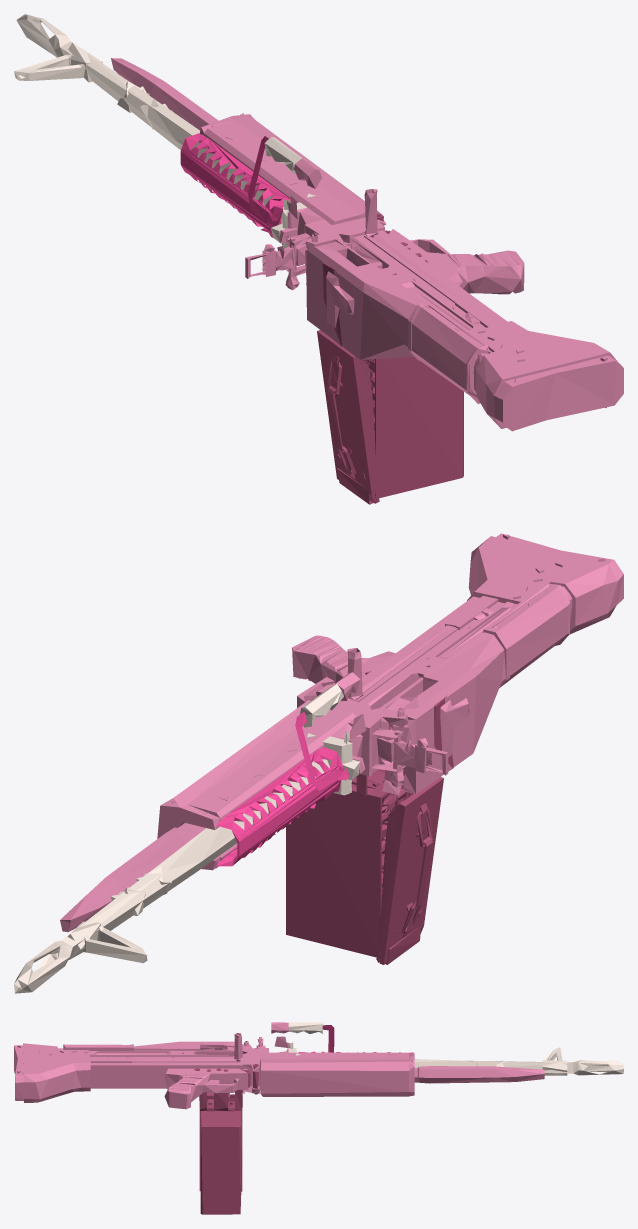
The model's file is LMG_M60.obj.
The picture shows the model from 3 angles, top to bottom: view 1: azimuth 30°, elevation 25°; view 2: azimuth 150°, elevation 25°; view 3: azimuth 270°, elevation 25°; orthographic projection. The views are drawn at different scales.
Parts seen in each view (by area): view 1: Body, Mag, Panel, Accent, Grip; view 2: Body, Mag, Panel, Accent, Grip; view 3: Body, Mag, Panel.
Part boxes in pixels (bbox=[...]): Body: bbox=[111, 58, 623, 431]; Mag: bbox=[317, 213, 463, 504]; Panel: bbox=[14, 14, 315, 248]; Accent: bbox=[180, 133, 290, 244]; Grip: bbox=[322, 262, 343, 451]; Body: bbox=[60, 533, 623, 932]; Mag: bbox=[286, 671, 443, 964]; Panel: bbox=[14, 684, 360, 993]; Accent: bbox=[216, 711, 349, 866]; Grip: bbox=[388, 695, 453, 906]; Body: bbox=[14, 1022, 544, 1109]; Mag: bbox=[194, 1063, 258, 1214]; Panel: bbox=[288, 1022, 623, 1075].
Size of the model in its own units: 0.9616 by 1.3 by 4.2.
